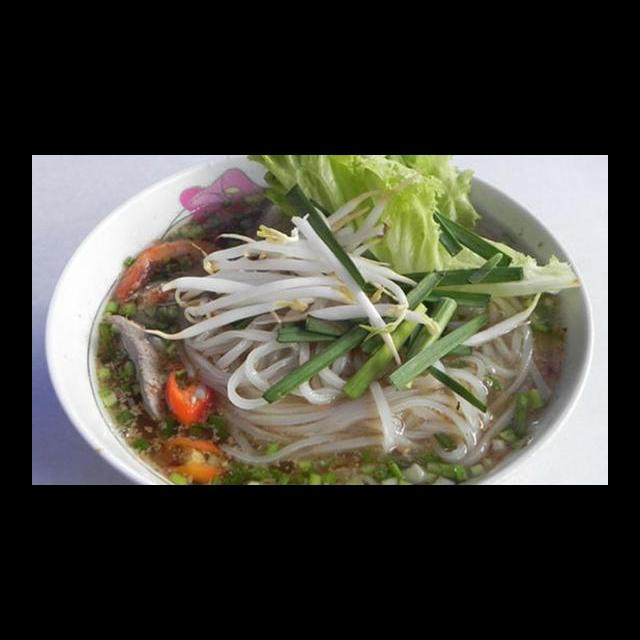banh hu tieu: (208, 381, 543, 472), (425, 285, 554, 472), (170, 291, 364, 413)
hu tieu: (57, 179, 593, 485)
thit heo: (101, 307, 181, 427)
tom: (111, 234, 228, 310)
